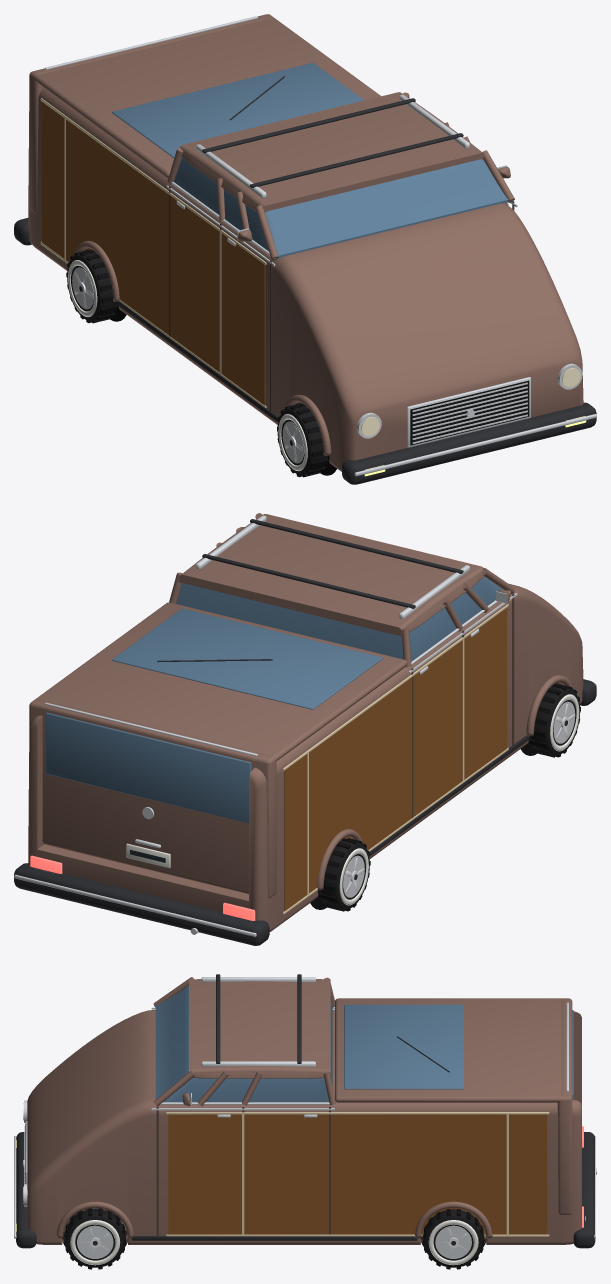
File: grandma.fbx
3 views of the same model, one above another, from view 1: azimuth 30°, elevation 25°; view 2: azimuth 150°, elevation 25°; view 3: azimuth 270°, elevation 25° (orthographic). The views are drawn at different scales.
Parts seen in each view (by area): view 1: Body, Lid, Wheel_1, Wheel_3, LidFlap; view 2: Body, Lid, LidFlap, Wheel_1, Wheel_3; view 3: Body, Lid, Wheel_2, Wheel_0, LidFlap.
Boxes of the visible parts, x1,y1,x2,y2 form: Body: (14, 87, 596, 484); Lid: (29, 14, 380, 177); Wheel_1: (66, 250, 117, 323); Wheel_3: (277, 403, 328, 477); LidFlap: (29, 14, 272, 213); Body: (14, 513, 596, 945); Lid: (29, 602, 407, 764); LidFlap: (29, 698, 276, 898); Wheel_1: (319, 838, 370, 911); Wheel_3: (529, 683, 580, 757); Body: (14, 974, 596, 1248); Lid: (335, 998, 572, 1102); Wheel_2: (64, 1208, 125, 1269); Wheel_0: (422, 1208, 484, 1269); LidFlap: (557, 998, 573, 1214).
Bounding box in the file's own units: 6.5 × 5.28 × 13.99.
